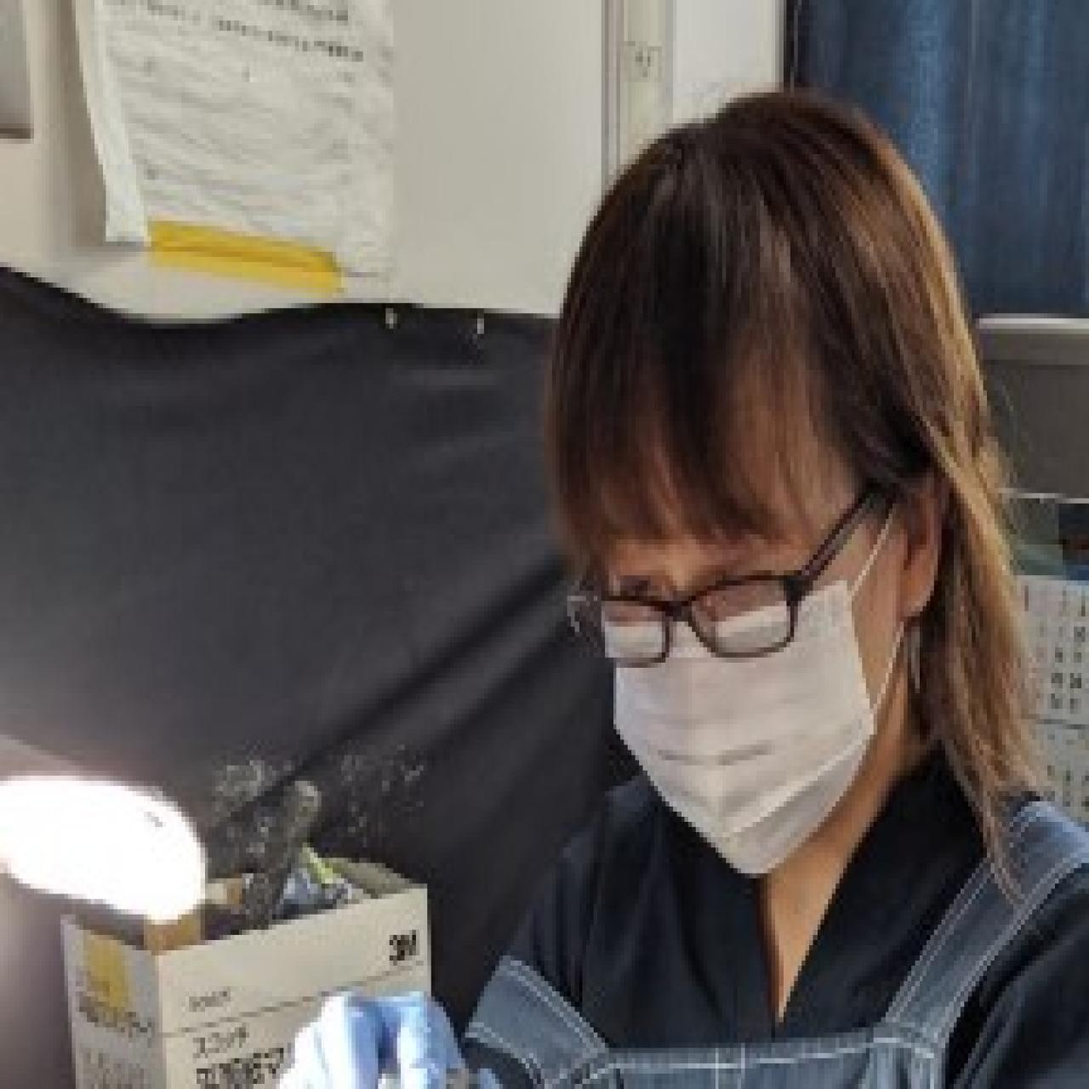NO_Safety_Vest: (514, 796, 1051, 1089)
Person: (259, 82, 1070, 1089)
